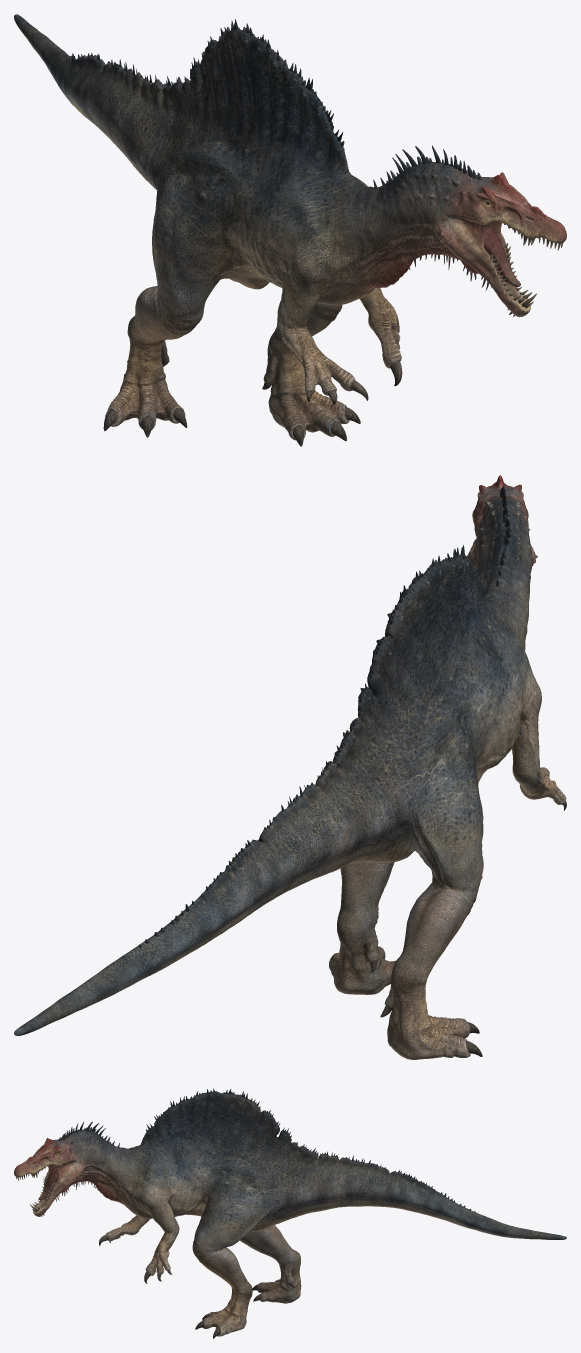
Rendered from spinosaurus.glb.
3 views of the same model, one above another, from view 1: azimuth 30°, elevation 25°; view 2: azimuth 150°, elevation 25°; view 3: azimuth 270°, elevation 25° (orthographic). The views are drawn at different scales.
Visible parts, largest first — view 1: spino_v02_printable; view 2: spino_v02_printable; view 3: spino_v02_printable.
Part boxes in pixels (x1,y1,x2,y2): spino_v02_printable: [14, 14, 566, 446]; spino_v02_printable: [14, 475, 566, 1059]; spino_v02_printable: [14, 1088, 566, 1338].
Size of the model in its own units: 3.18 by 5.59 by 12.36.
Materials: 1 (1 with a texture image).
